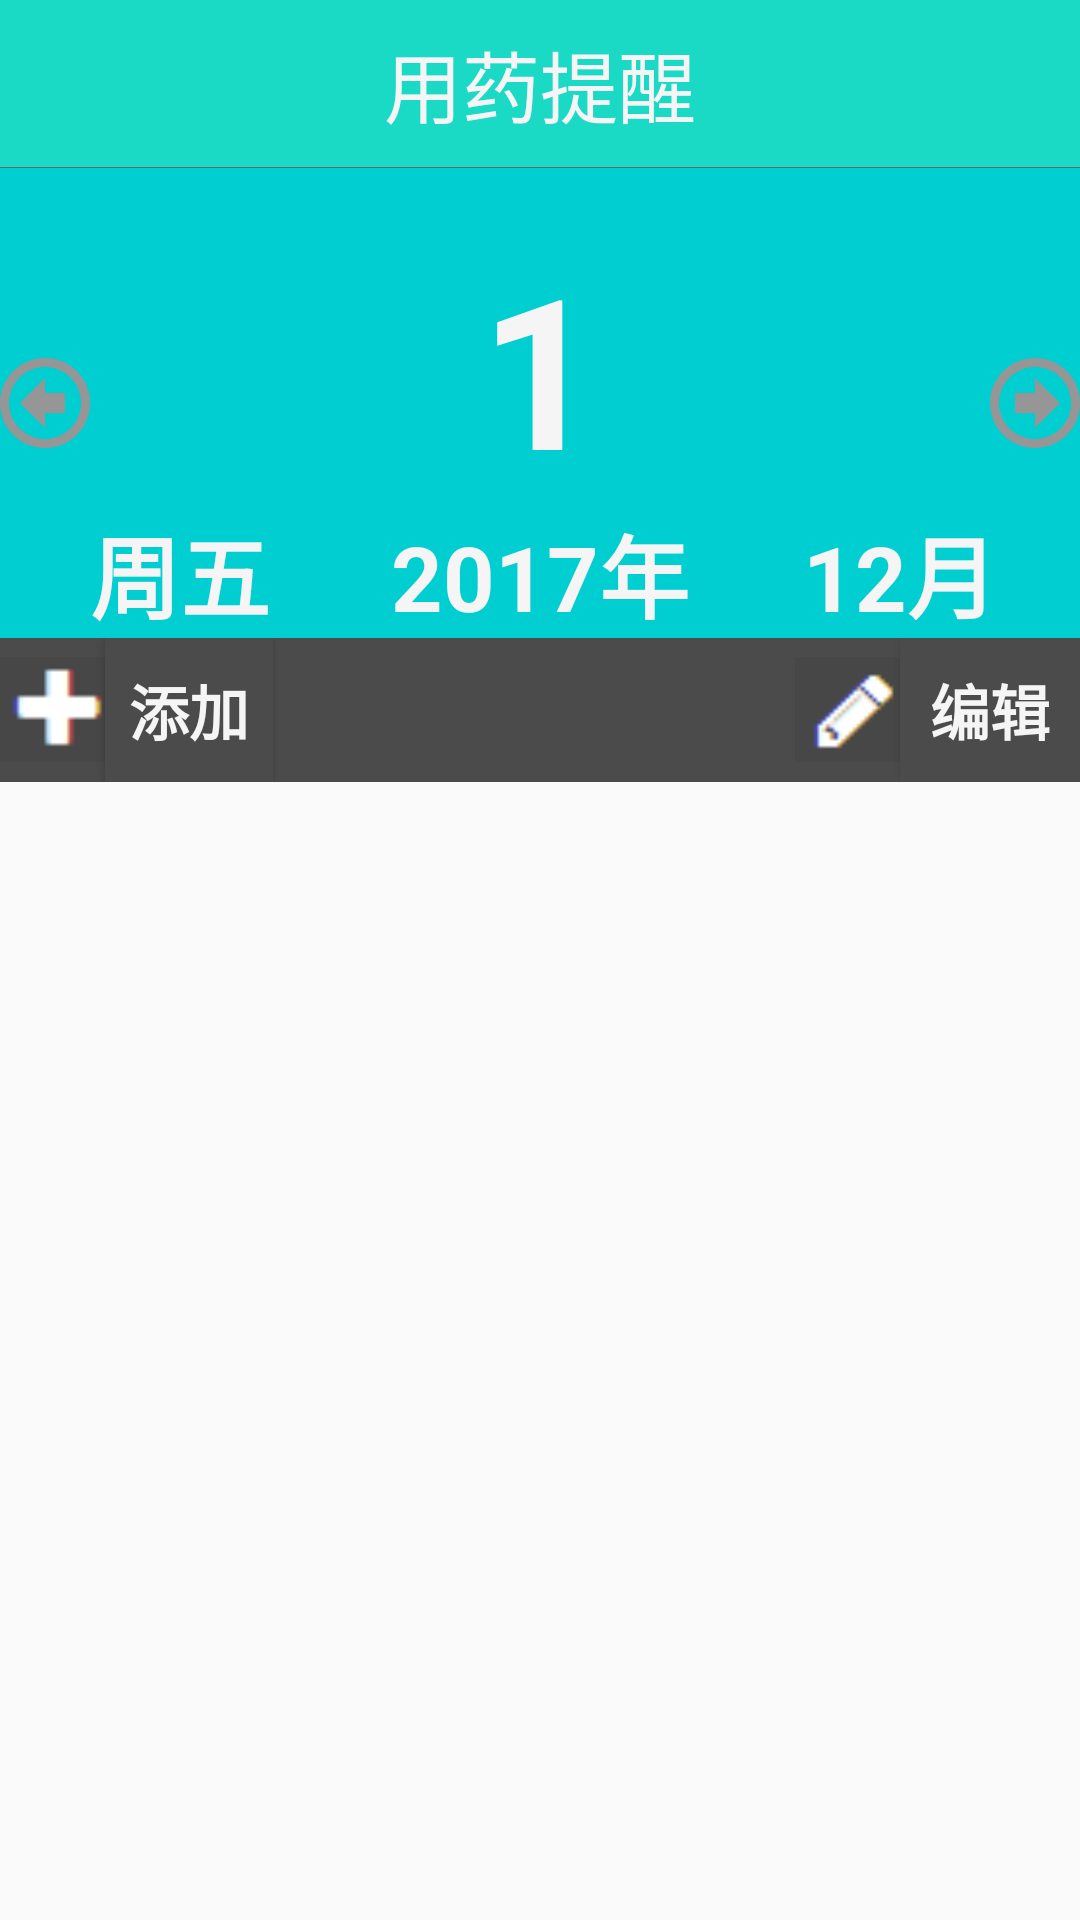

Icon bounding boxes for this 1080px x 1920px phone screenshot, format rect(x1, y1, x2, y2):
add: rect(12, 668, 102, 746)
left: rect(0, 358, 90, 448)
right: rect(990, 358, 1080, 448)
